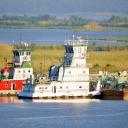tugboat: (17, 35, 103, 104)
